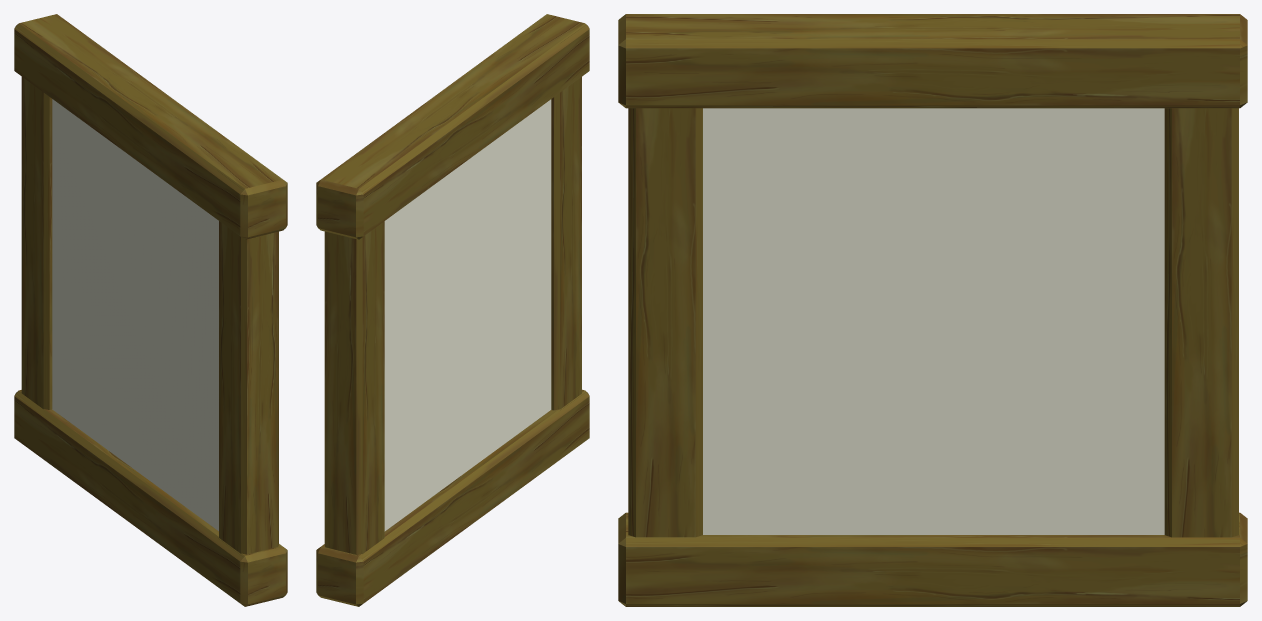
The model's file is BaseWall_4_textured.fbx.
3 views of the same model, side by side, from view 1: azimuth 30°, elevation 25°; view 2: azimuth 150°, elevation 25°; view 3: azimuth 270°, elevation 25° (orthographic). The views are drawn at different scales.
Visible parts, largest first — view 1: BaseWall.047, WallWoodV.226, WallWoodV.227, WallWoodV.223, WallWoodV.224; view 2: BaseWall.047, WallWoodV.226, WallWoodV.224, WallWoodV.223, WallWoodV.227; view 3: BaseWall.047, WallWoodV.226, WallWoodV.223, WallWoodV.227, WallWoodV.224.
Boxes of the visible parts, box(x1,y1,x2,y2) form: BaseWall.047: box(52, 99, 218, 530); WallWoodV.226: box(14, 14, 287, 239); WallWoodV.227: box(219, 221, 278, 554); WallWoodV.223: box(14, 390, 287, 606); WallWoodV.224: box(21, 77, 52, 409); BaseWall.047: box(384, 99, 551, 531); WallWoodV.226: box(316, 14, 589, 239); WallWoodV.224: box(324, 221, 384, 554); WallWoodV.223: box(316, 389, 589, 606); WallWoodV.227: box(551, 77, 581, 410); BaseWall.047: box(703, 108, 1164, 534); WallWoodV.226: box(618, 14, 1247, 108); WallWoodV.223: box(618, 512, 1247, 606); WallWoodV.227: box(628, 108, 702, 537); WallWoodV.224: box(1164, 108, 1238, 537).
Size of the model in its own units: 0.2753 by 2.32 by 2.33.
